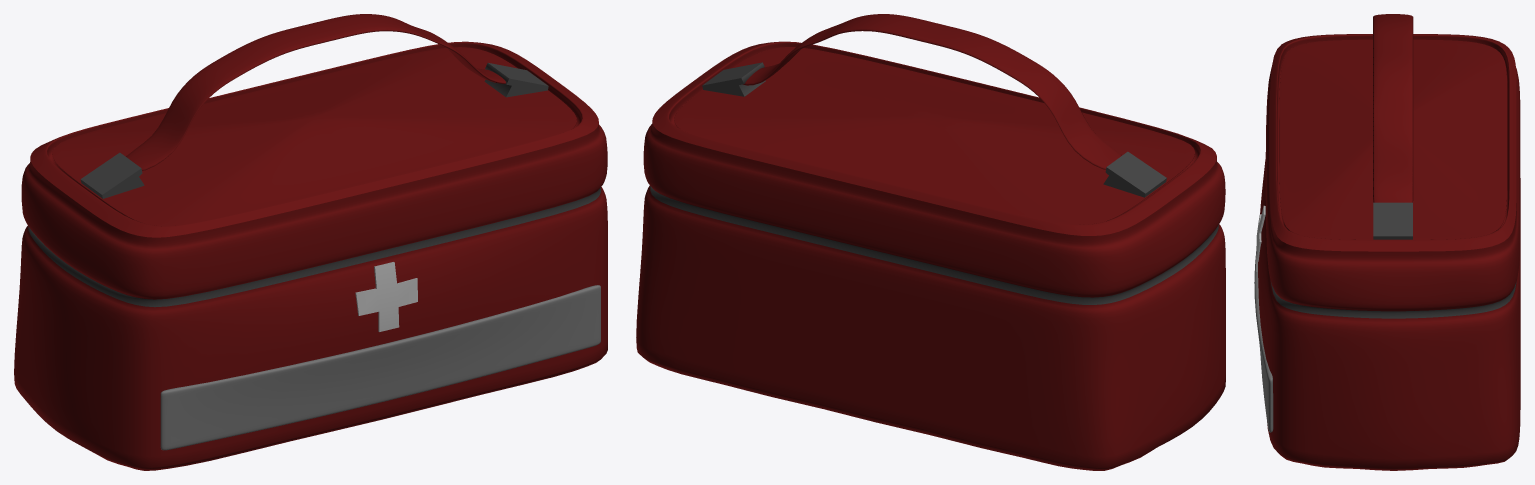
Rendered from FirstAidKit.fbx.
3 renders of one model, left to right at view 1: azimuth 30°, elevation 25°; view 2: azimuth 150°, elevation 25°; view 3: azimuth 270°, elevation 25°, orthographic. The views are drawn at different scales.
Visible parts, largest first — view 1: pCube13; view 2: pCube13; view 3: pCube13.
Part boxes in pixels (x1,y1,x2,y2): pCube13: [14, 14, 607, 470]; pCube13: [636, 14, 1225, 470]; pCube13: [1254, 14, 1520, 470].
Bounding box in the file's own units: 1.19 × 0.7492 × 0.5673.
